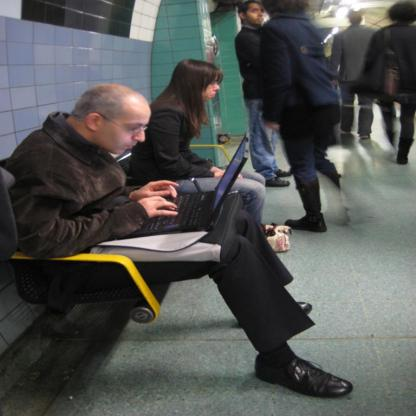board: (126, 131, 249, 237)
